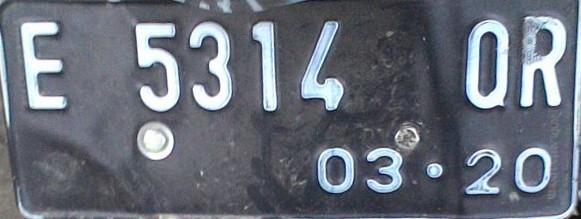clone-license-plate: (1, 0, 579, 218)
